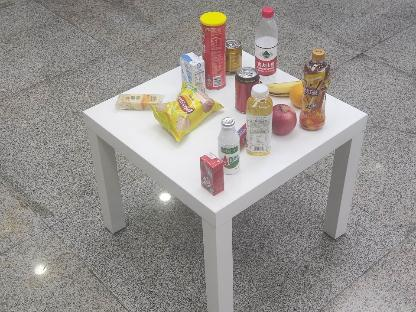Can: (235, 68, 259, 112), (224, 38, 244, 74)
Others: (197, 10, 230, 94), (188, 151, 228, 197), (176, 50, 208, 96)
Plastic Bottle: (249, 1, 283, 76)
